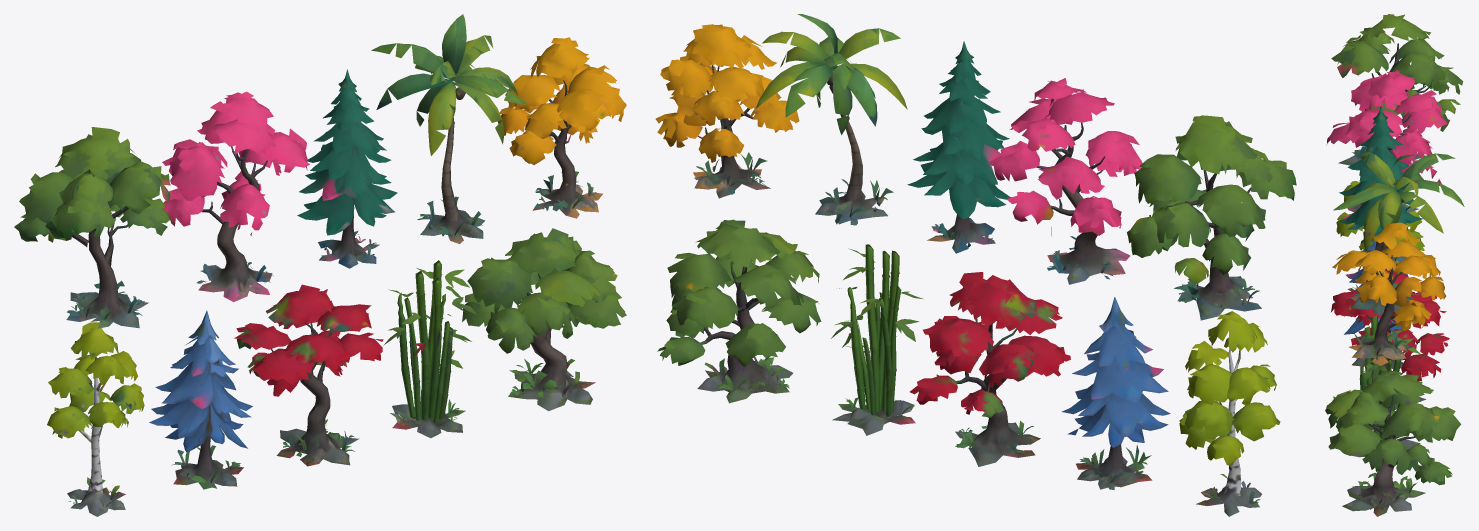
File: trees.glb
3 views of the same model, side by side, from view 1: azimuth 30°, elevation 25°; view 2: azimuth 150°, elevation 25°; view 3: azimuth 270°, elevation 25° (orthographic). The views are drawn at different scales.
Parts seen in each view (by area): view 1: b36c4207_e37d_4fd1_92e6_1cf663a57f09; view 2: b36c4207_e37d_4fd1_92e6_1cf663a57f09; view 3: b36c4207_e37d_4fd1_92e6_1cf663a57f09.
Part boxes in pixels (bbox=[...]): b36c4207_e37d_4fd1_92e6_1cf663a57f09: bbox=[14, 14, 626, 516]; b36c4207_e37d_4fd1_92e6_1cf663a57f09: bbox=[655, 14, 1296, 516]; b36c4207_e37d_4fd1_92e6_1cf663a57f09: bbox=[1325, 14, 1464, 516].
Size of the model in its own units: 0.9995 by 0.6313 by 0.2515.
Materials: 1 (1 with a texture image).
